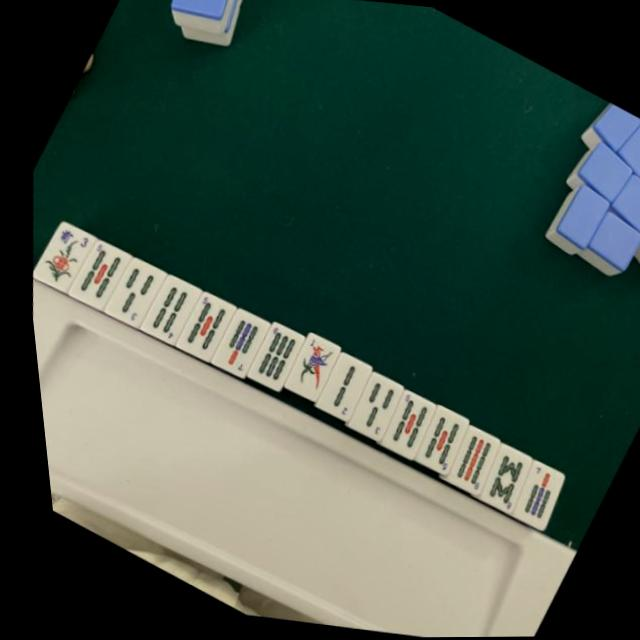bf3: (27, 222, 99, 299)
sb1: (279, 333, 342, 402)
sb2: (314, 355, 375, 422)
sb3: (99, 260, 166, 332), (345, 375, 403, 442)
sb4: (136, 278, 203, 351)
sb5: (64, 241, 135, 316), (172, 293, 237, 364), (373, 390, 437, 460), (408, 409, 471, 476)
sb6: (241, 323, 308, 395)
sb7: (209, 314, 270, 379), (505, 462, 566, 527)
sb8: (469, 446, 536, 518)
sb9: (440, 428, 503, 496)
